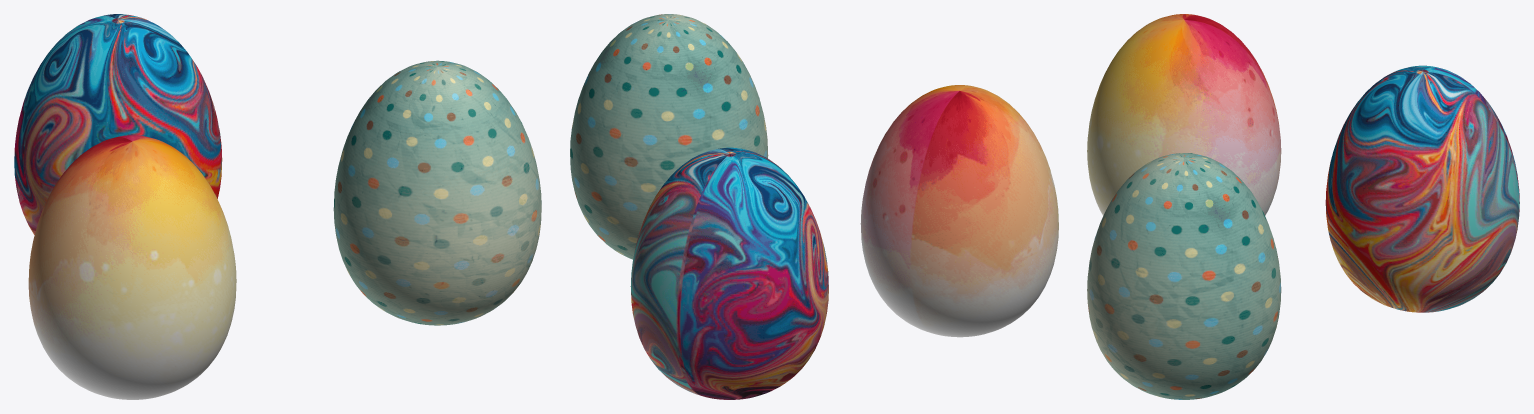
File: eastereggs.gltf
3 views of the same model, side by side, from view 1: azimuth 30°, elevation 25°; view 2: azimuth 150°, elevation 25°; view 3: azimuth 270°, elevation 25° (orthographic). The views are drawn at different scales.
Parts seen in each view (by area): view 1: Mesh; view 2: Mesh; view 3: Mesh.
Part boxes in pixels (x1,y1,x2,y2): Mesh: (14,14,541,399); Mesh: (570,14,1058,399); Mesh: (1087,14,1519,399).
Size of the model in its own units: 0.5217 by 0.2551 by 0.4317.
1 material, 1 textured.
